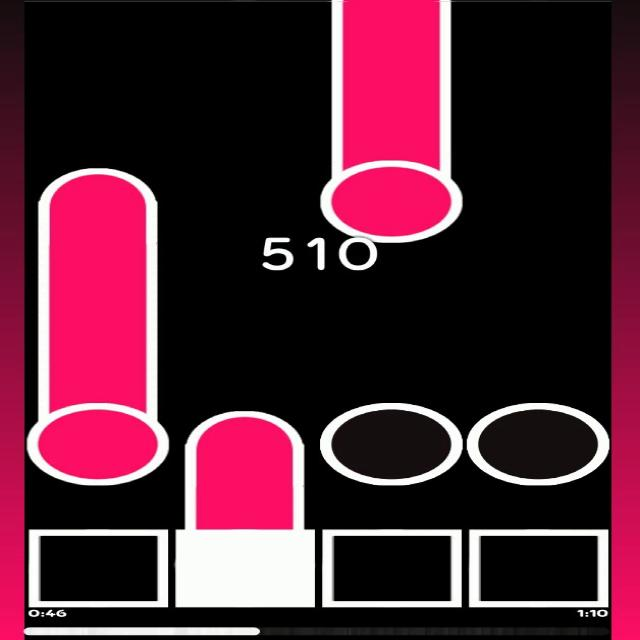end_hold: (179, 401, 310, 457), (30, 159, 164, 213)
note: (316, 400, 466, 488), (466, 399, 610, 488)
start_hold: (321, 142, 462, 246), (28, 384, 169, 488)
